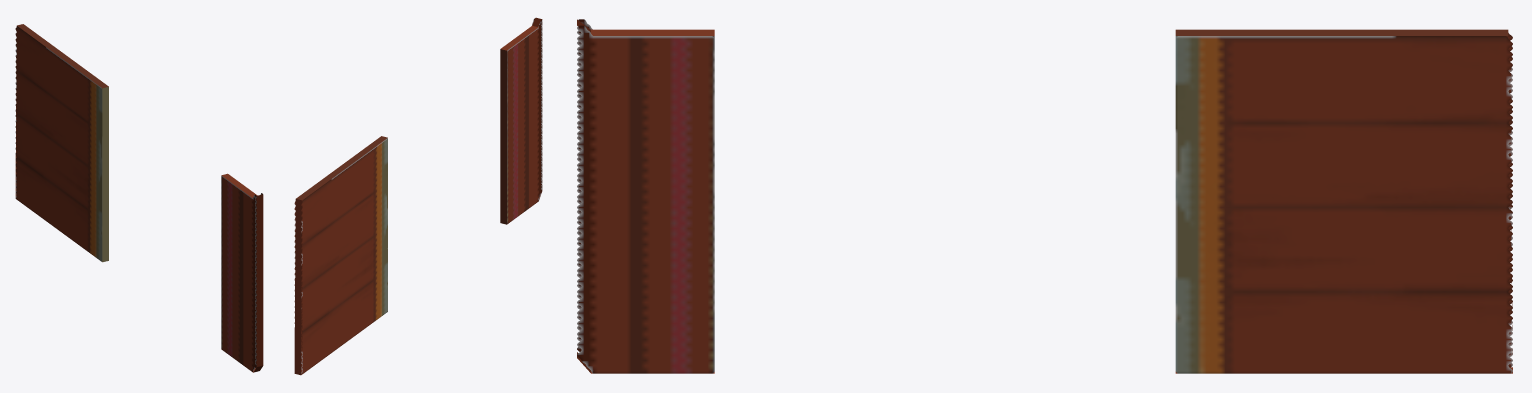
Rendered from pz_native_location_restaurant_spiffos_01_25_frame.obj.
3 renders of one model, left to right at view 1: azimuth 30°, elevation 25°; view 2: azimuth 150°, elevation 25°; view 3: azimuth 270°, elevation 25°, orthographic. The views are drawn at different scales.
Visible parts, largest first — view 1: pz_native_location_restaurant_spiffos_01_25_frame; view 2: pz_native_location_restaurant_spiffos_01_25_frame; view 3: pz_native_location_restaurant_spiffos_01_25_frame.
Boxes of the visible parts, box(x1,y1,x2,y2) form: pz_native_location_restaurant_spiffos_01_25_frame: box(15, 24, 263, 372); pz_native_location_restaurant_spiffos_01_25_frame: box(294, 17, 542, 375); pz_native_location_restaurant_spiffos_01_25_frame: box(577, 19, 1512, 373).
Bounding box in the file's own units: 0.04 × 1.06 × 2.54.
1 material, 1 textured.
